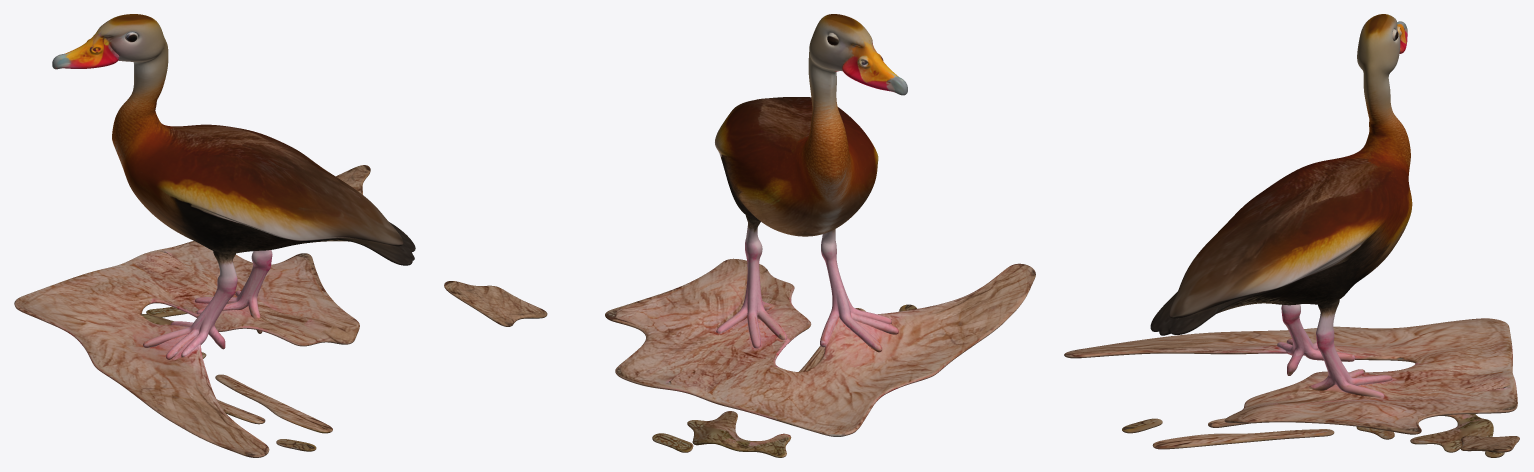
The model's file is nm__whistlingduck.glb.
3 renders of one model, left to right at view 1: azimuth 30°, elevation 25°; view 2: azimuth 150°, elevation 25°; view 3: azimuth 270°, elevation 25°, orthographic. The views are drawn at different scales.
Parts seen in each view (by area): view 1: Object_2, Object_3; view 2: Object_2, Object_3; view 3: Object_2, Object_3.
Part boxes in pixels (x1,y1,x2,y2): Object_2: (14, 14, 415, 455); Object_3: (15, 15, 342, 457); Object_2: (444, 14, 1033, 457); Object_3: (605, 15, 1035, 452); Object_2: (1064, 14, 1519, 452); Object_3: (1064, 14, 1516, 457).
Size of the model in its own units: 0.5813 by 0.5535 by 0.5988.
Materials: 1 (1 with a texture image).
